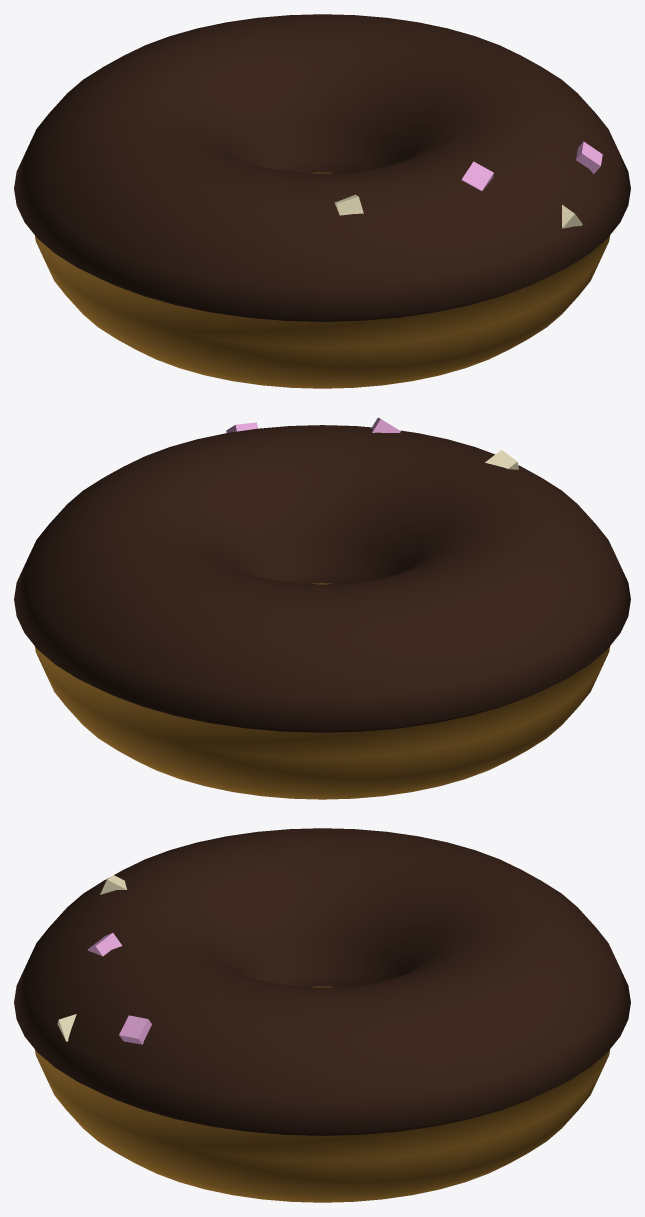
File: donutBrown.fbx
3 renders of one model, top to bottom at view 1: azimuth 30°, elevation 25°; view 2: azimuth 150°, elevation 25°; view 3: azimuth 270°, elevation 25°, orthographic.
Parts seen in each view (by area): view 1: donutBrown; view 2: donutBrown; view 3: donutBrown.
Boxes of the visible parts, box(x1,y1,x2,y2) form: donutBrown: box(14, 14, 630, 388); donutBrown: box(14, 417, 630, 799); donutBrown: box(14, 828, 630, 1202).
Size of the model in its own units: 0.0915 by 0.034 by 0.0915.
